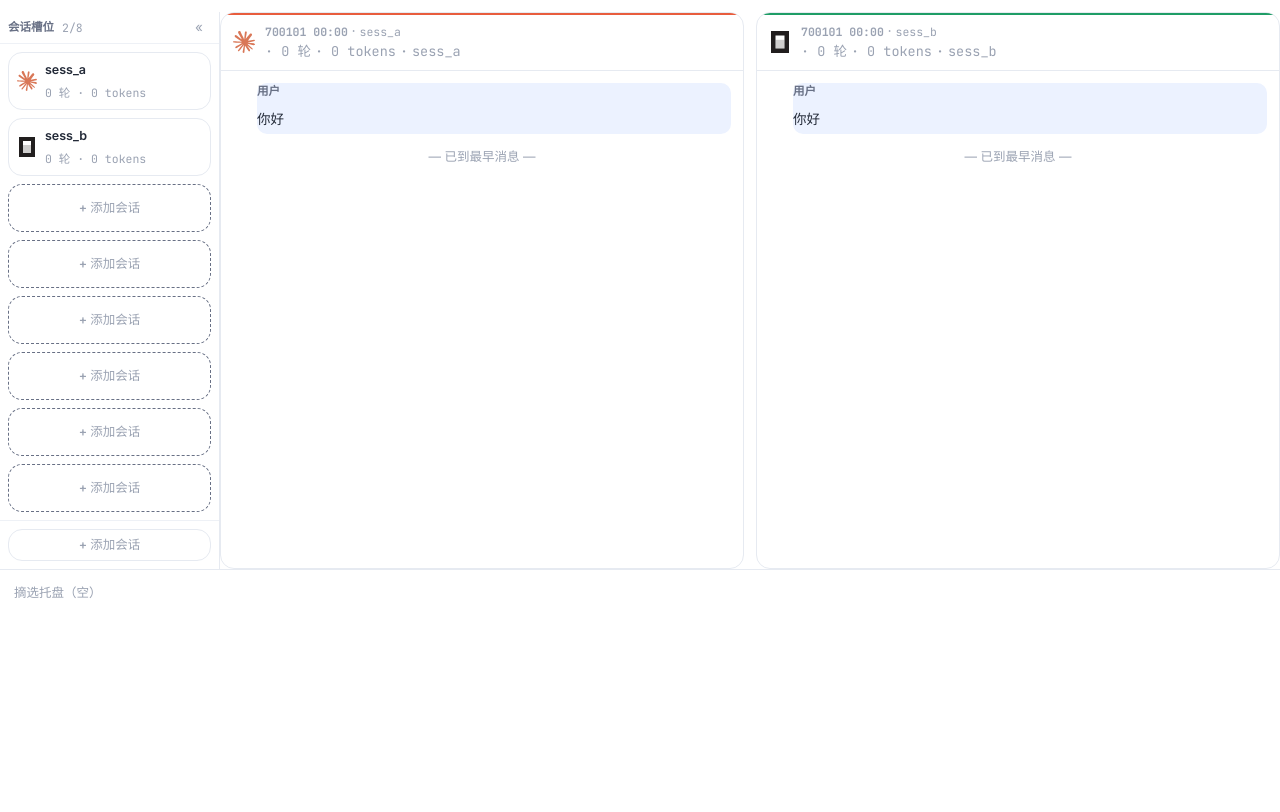
Test: WorkspaceView (t224) › 跨槽位 checkbox 选中计数合计与取消勾选
Expected: the text "你好" is shown 2 times, x1=257 y1=111 x2=284 y2=127; x1=793 y1=111 x2=820 y2=127
Click the 1st checkbox labelled "用户 你好".
click(482, 108)  # box x1=233 y1=78 x2=731 y2=138
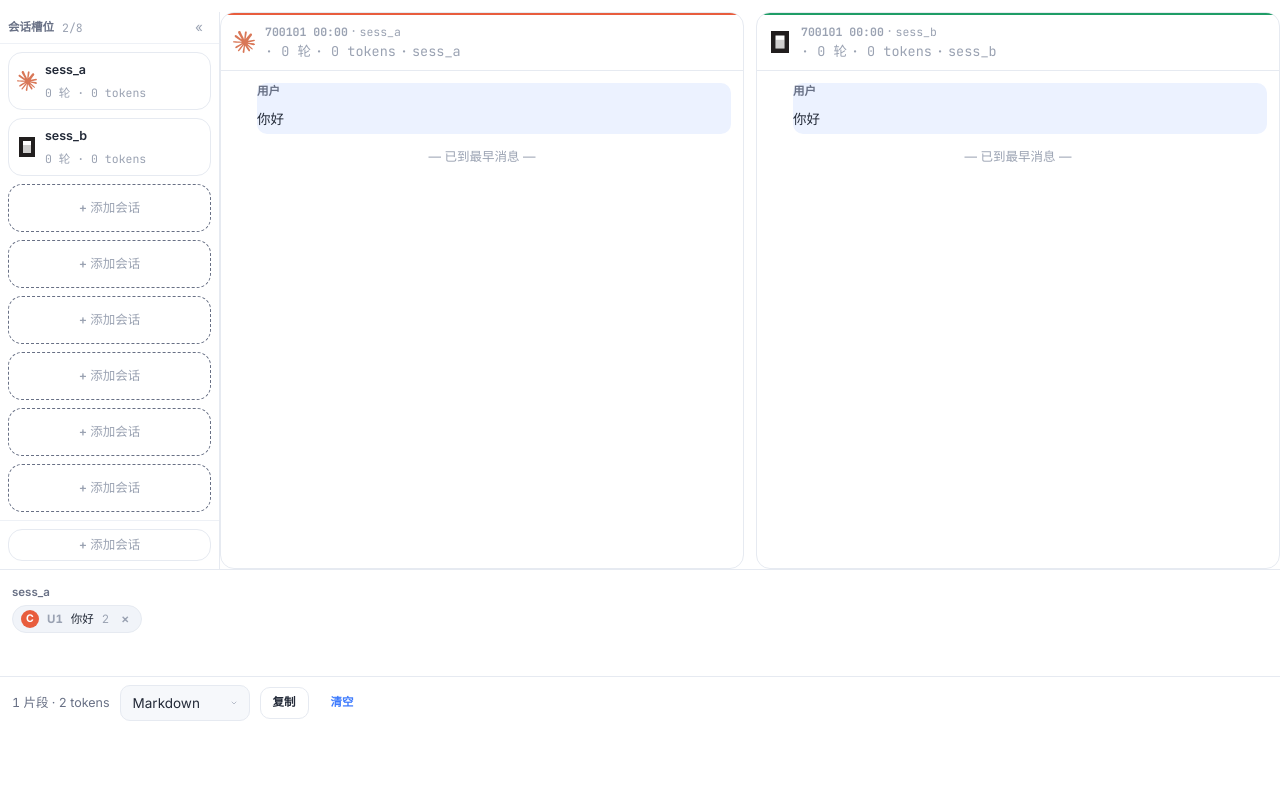
Click the 2nd checkbox labelled "用户 你好".
click(1018, 108)  # box x1=769 y1=78 x2=1267 y2=138
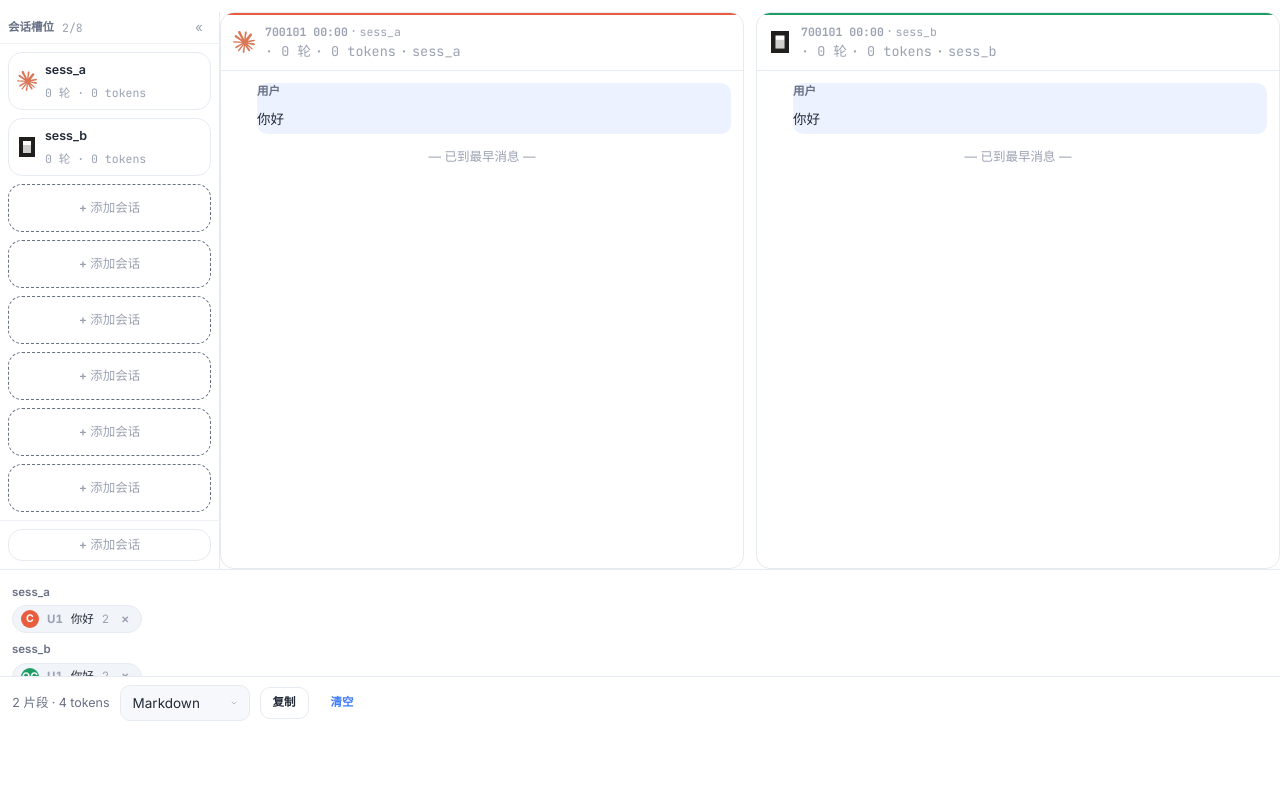
Now the text "2 片段 · 4 tokens" is shown, box x1=12 y1=694 x2=110 y2=712
Click the 1st checkbox labelled "用户 你好".
click(482, 108)  # box x1=233 y1=78 x2=731 y2=138
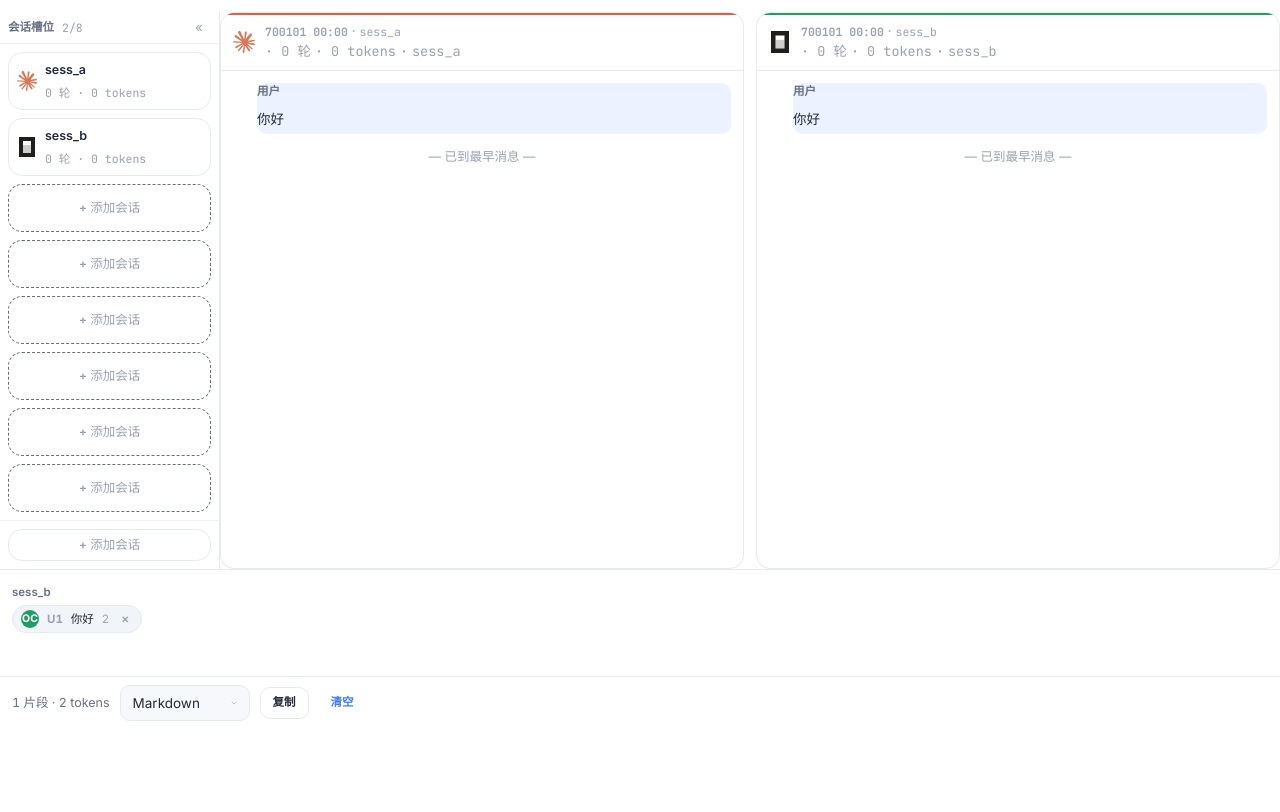
Now the text "1 片段 · 2 tokens" is shown, box x1=12 y1=694 x2=110 y2=712
